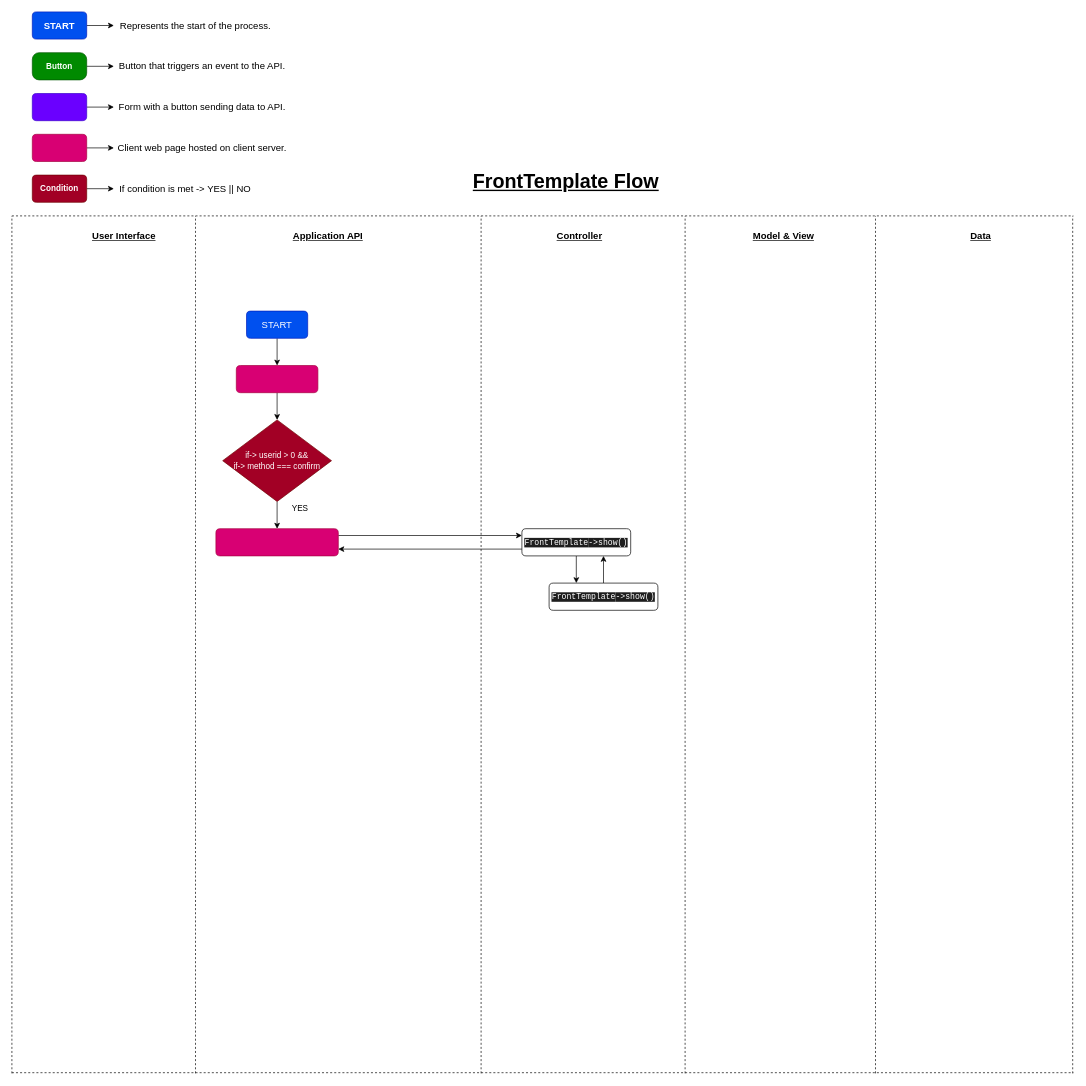
Some shapes in this 1086 by 1086 pixel diagram are drawn without their labels. The shapes that lost their labels are listed below. From the top down, each one's centre as x and y in pixels, then its label:
At (x=59, y=107): "Form".
At (x=59, y=148): "Client Page".
At (x=277, y=379): "App->routeApp()".
At (x=276, y=542): "App->loadFrontTemplate()".
